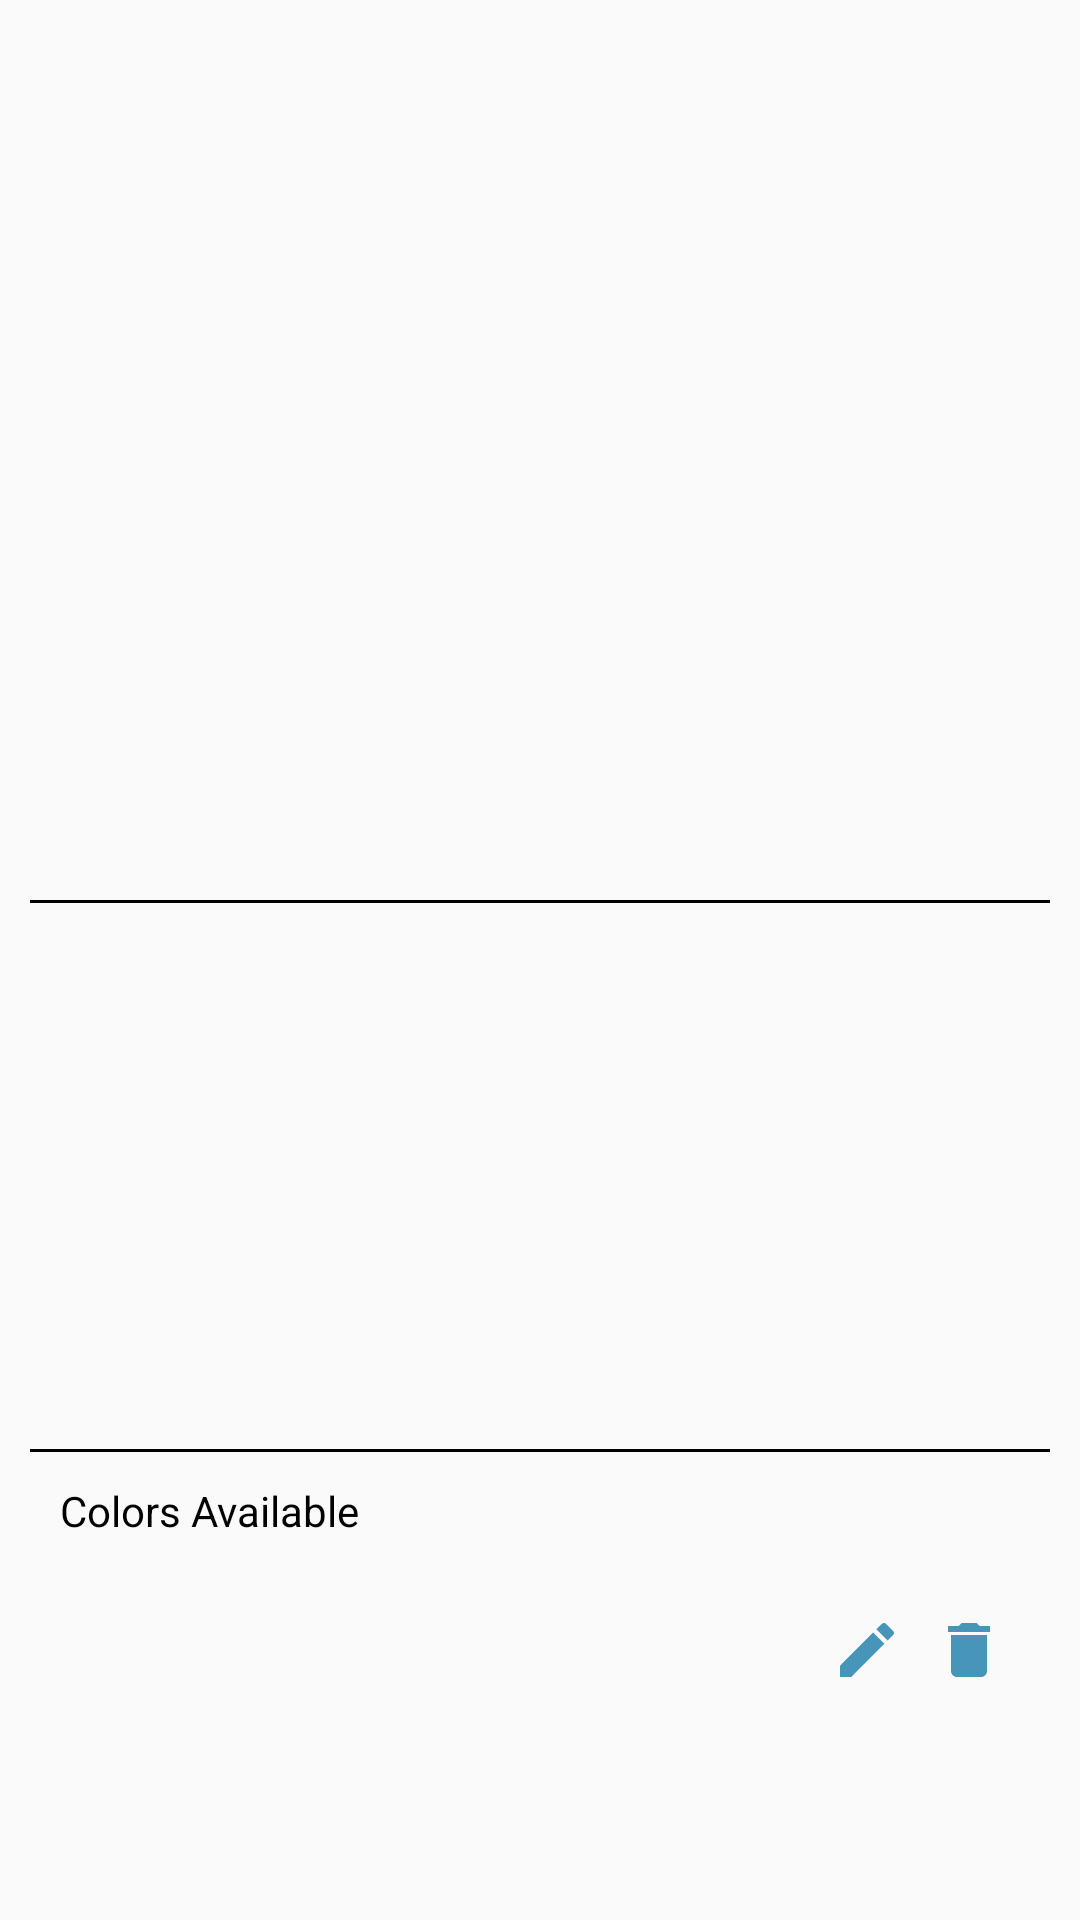

Icon bounding boxes for this 1080x1920 phone screenshot, format (x1,y1,x2,y2):
delete: (948,1623,990,1677)
edit: (840,1623,894,1677)
